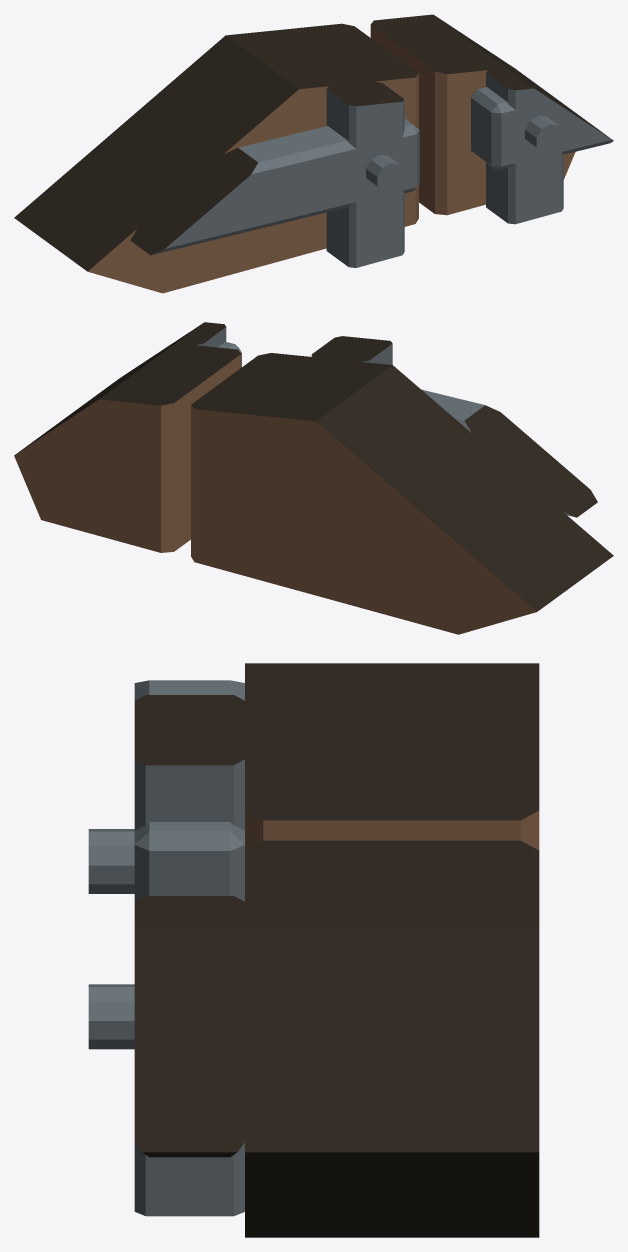
Rendered from SM_DoorShard_01_22.fbx.
3 views of the same model, one above another, from view 1: azimuth 30°, elevation 25°; view 2: azimuth 150°, elevation 25°; view 3: azimuth 270°, elevation 25° (orthographic). The views are drawn at different scales.
Parts seen in each view (by area): view 1: SM_DoorShard_01_22; view 2: SM_DoorShard_01_22; view 3: SM_DoorShard_01_22.
Boxes of the visible parts, <box> form: SM_DoorShard_01_22: <box>14,14,613,293</box>; SM_DoorShard_01_22: <box>14,322,613,634</box>; SM_DoorShard_01_22: <box>88,663,539,1237</box>.
Size of the model in its own units: 62.91 by 24.5 by 20.53.
